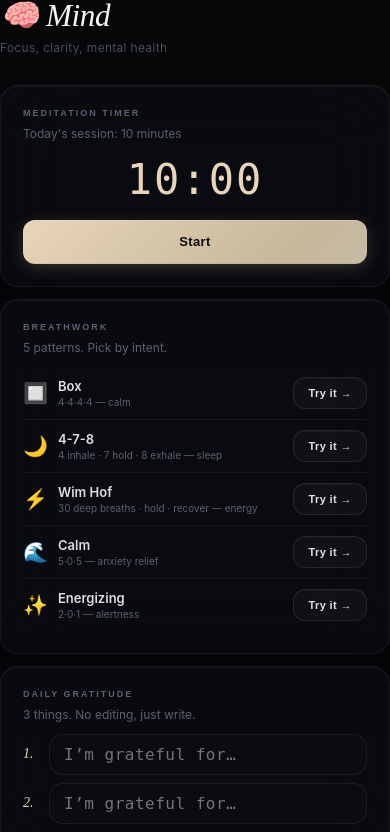
Scenario: MindView › selecting a pattern opens the modal via a real click
Click the button "Try it →" in the row of "4·4·4·4 — calm".
click(330, 393)  # box left=294, top=377, right=367, bottom=409
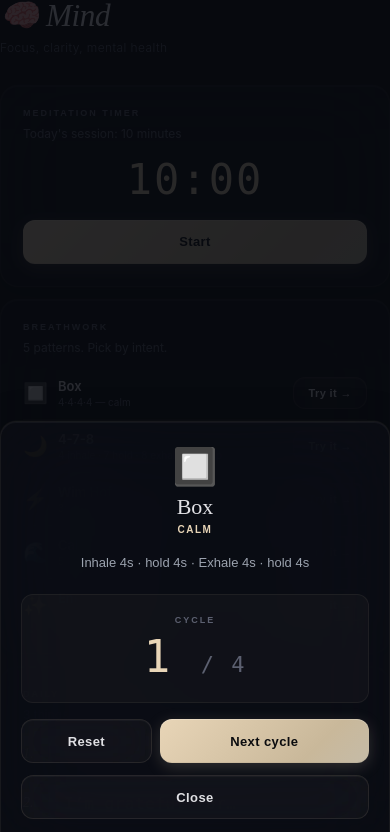
Check: the text "Cycle" is shown, box left=175, top=615, right=215, bottom=625
Check: the text "Next cycle" is shown, box left=160, top=719, right=369, bottom=763
